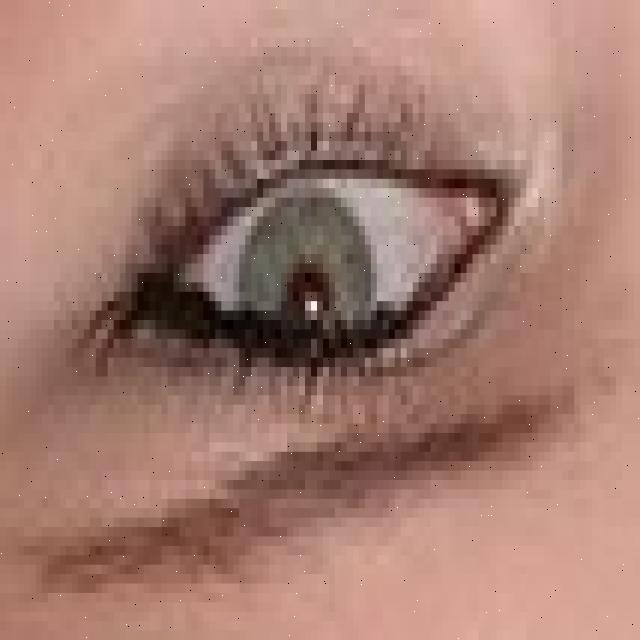Normal: (240, 173, 378, 406)
